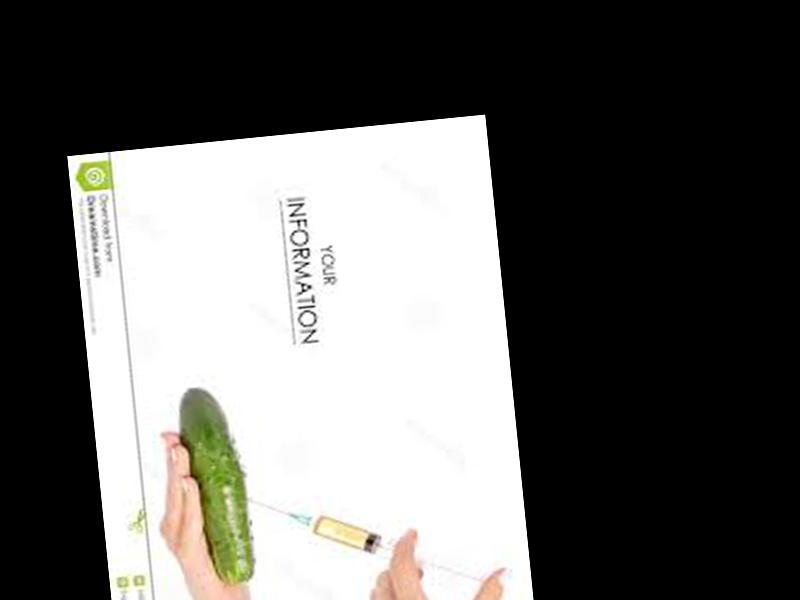Cucumber: (176, 383, 255, 588)
